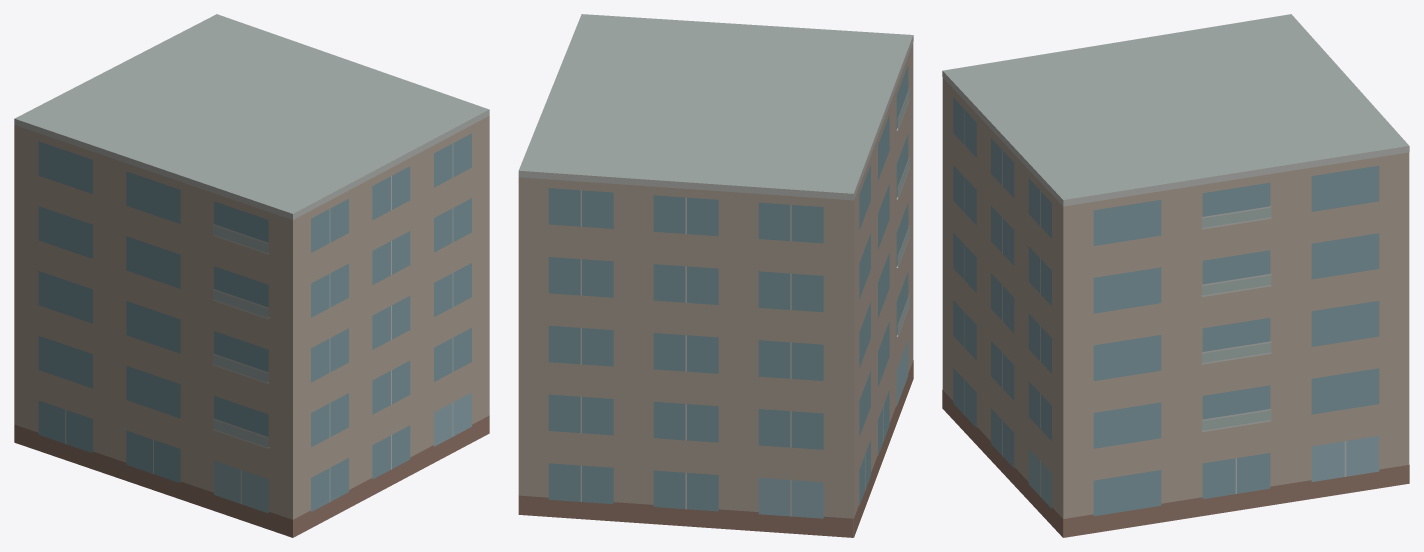
Rendered from survey-upis-32973286.glb.
The picture shows the model from 3 angles, left to right: view 1: azimuth 30°, elevation 25°; view 2: azimuth 150°, elevation 25°; view 3: azimuth 270°, elevation 25°; orthographic projection. The views are drawn at different scales.
Visible parts, largest first — view 1: survey-upis-32973286.tmp; view 2: survey-upis-32973286.tmp; view 3: survey-upis-32973286.tmp.
Boxes of the visible parts, x1,y1,x2,y2 form: survey-upis-32973286.tmp: [14, 14, 489, 537]; survey-upis-32973286.tmp: [518, 14, 913, 537]; survey-upis-32973286.tmp: [942, 14, 1409, 537].
Size of the model in its own units: 15.13 by 12.8 by 16.05.
